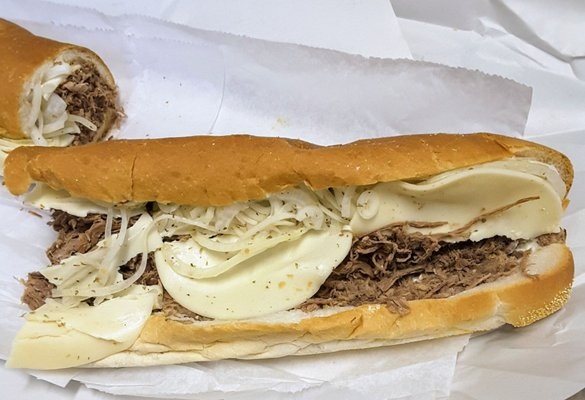soup: (1, 7, 580, 363), (0, 17, 127, 153)
